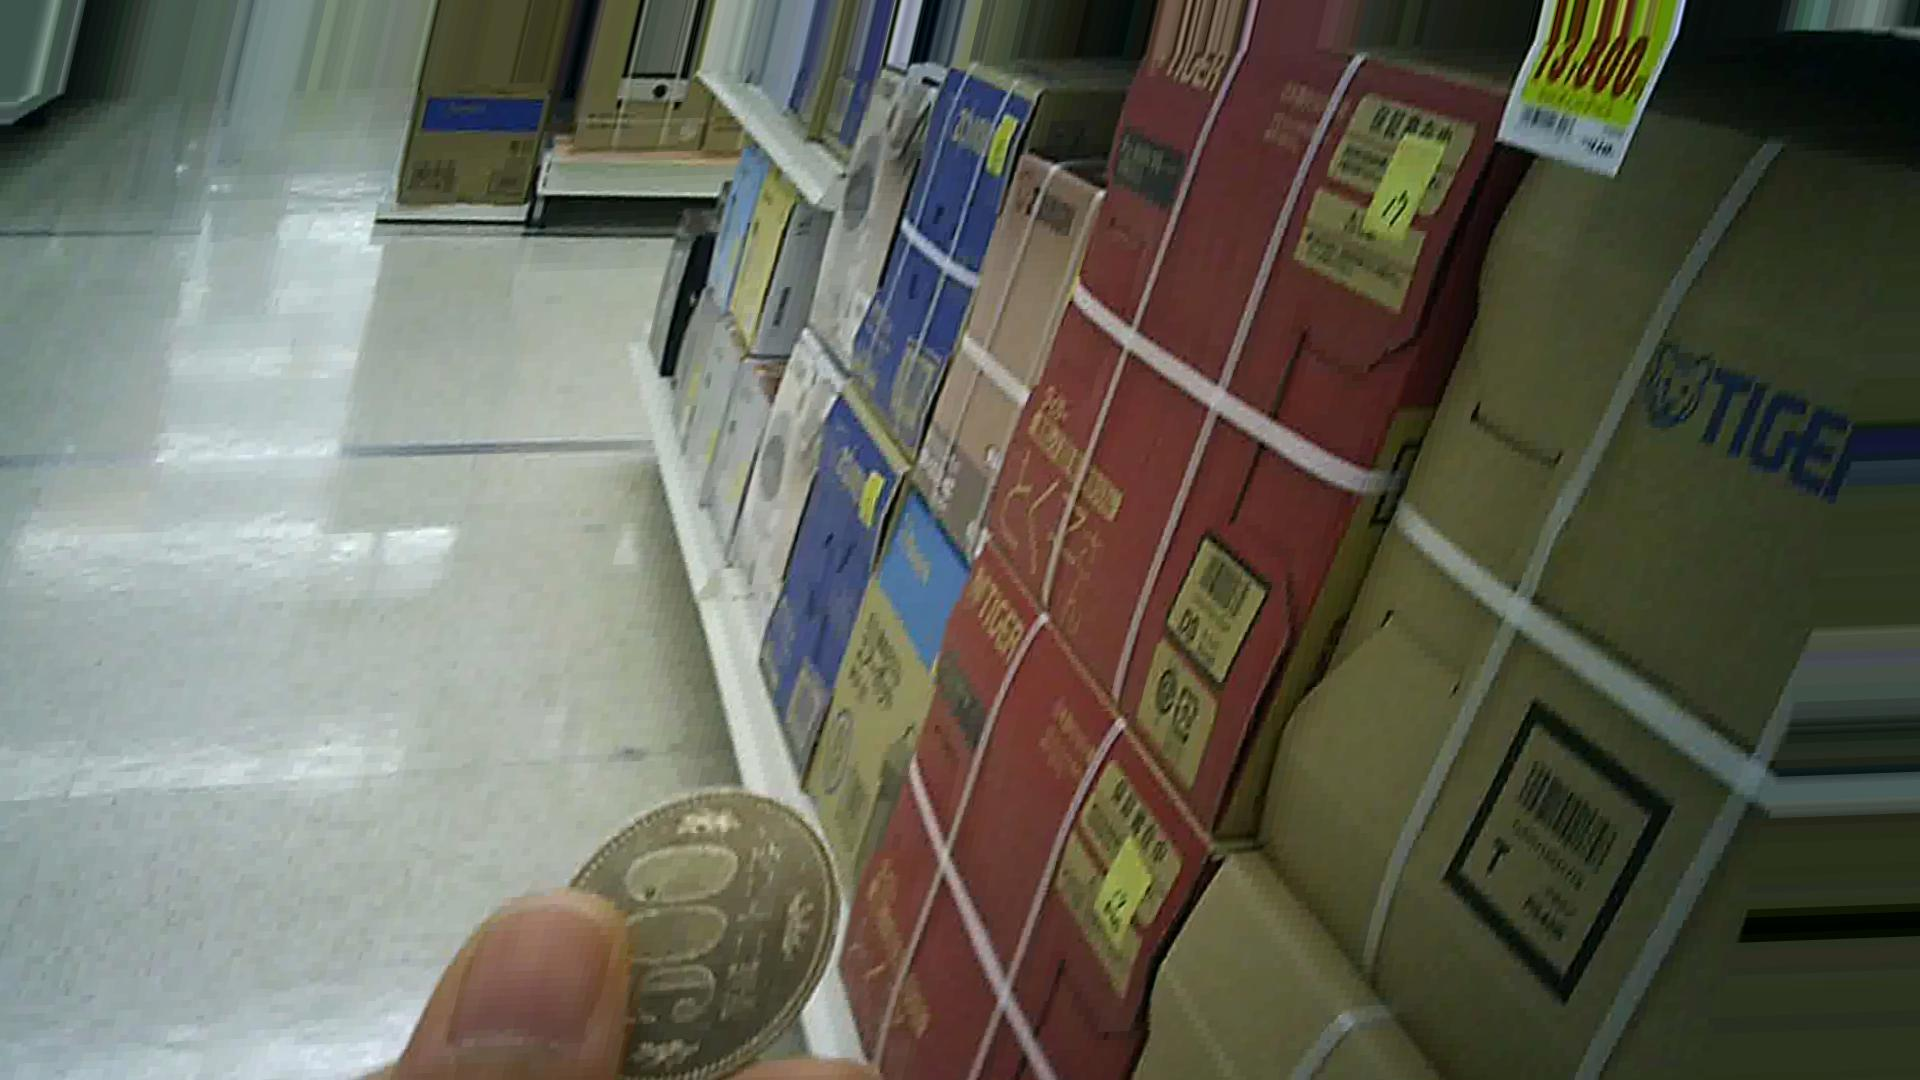500 Yen: (524, 775, 843, 1063)
